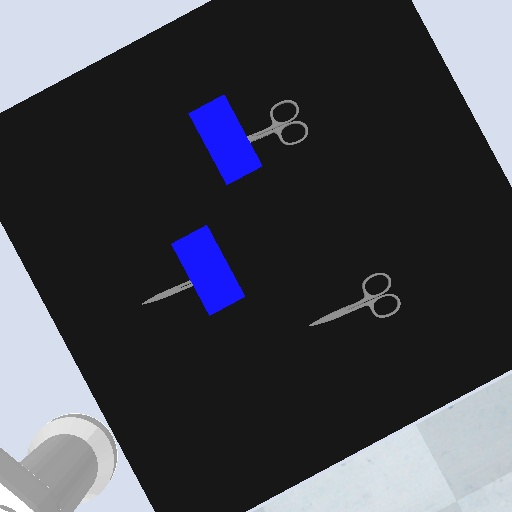tijera: (306, 268, 403, 328), (245, 97, 313, 148), (140, 278, 195, 308)
